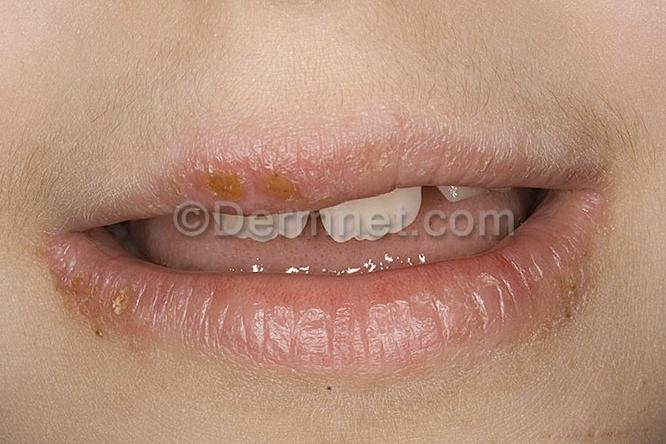exudacion 1: (35, 237, 140, 332), (191, 164, 307, 205)
xerosis 1: (325, 126, 514, 180)
